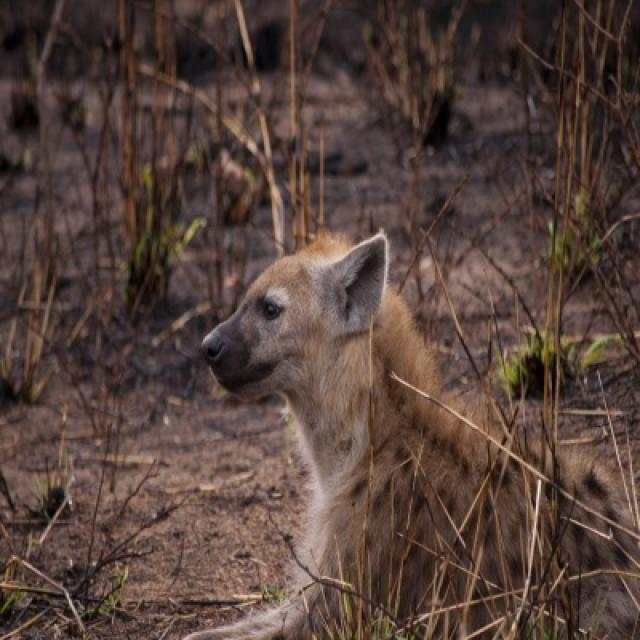hyena: (203, 232, 533, 618), (554, 453, 638, 578), (190, 570, 341, 638)
